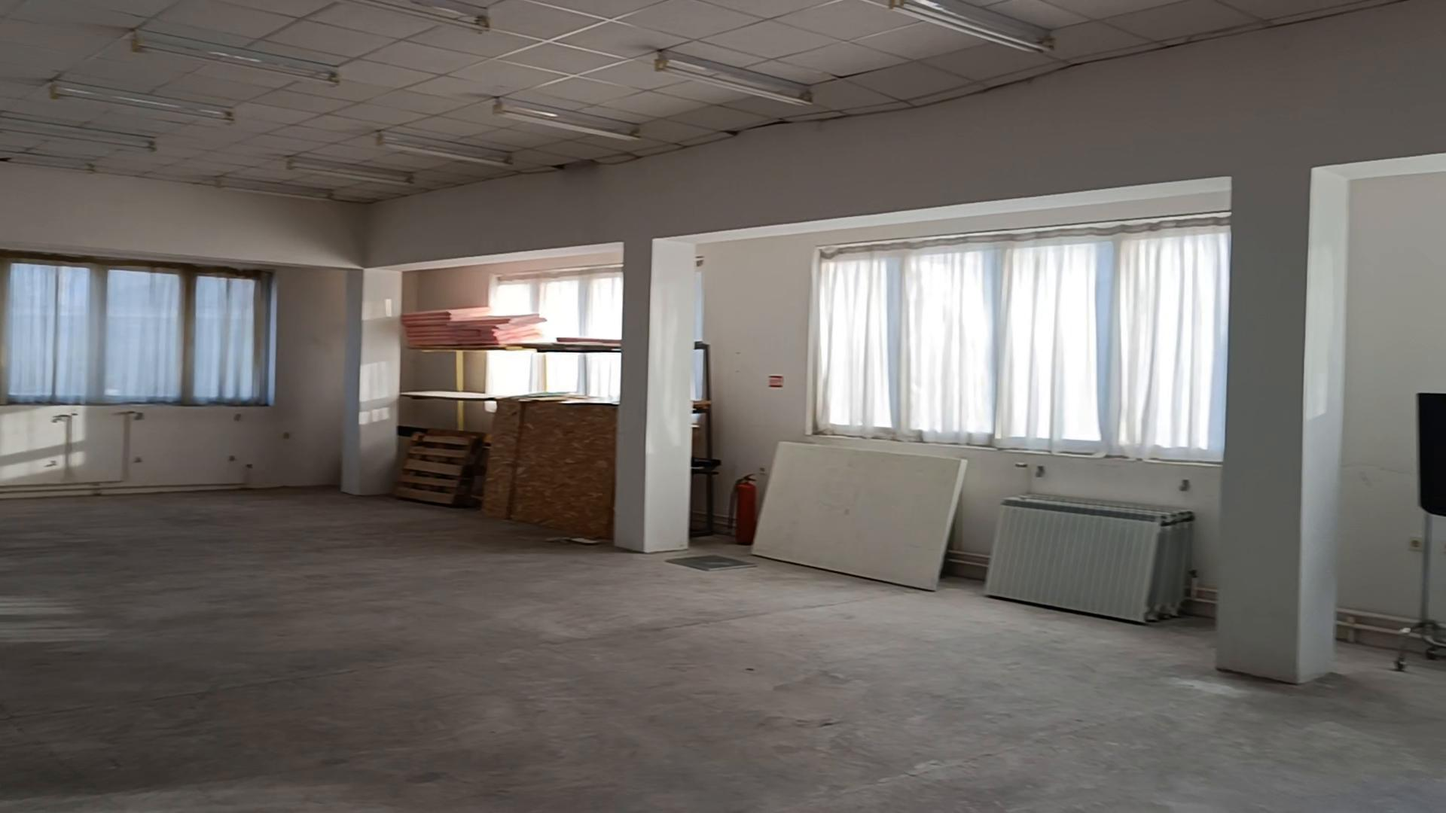ceiling: (0, 0, 1401, 202)
floor: (0, 490, 1445, 812)
wall: (0, 9, 1430, 667), (613, 239, 697, 553)
